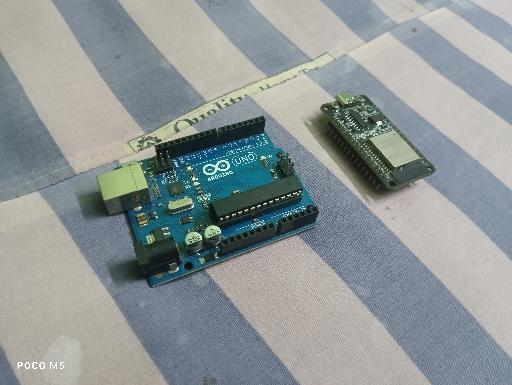Arduino: (96, 115, 320, 289)
Esp32: (320, 91, 436, 193)
